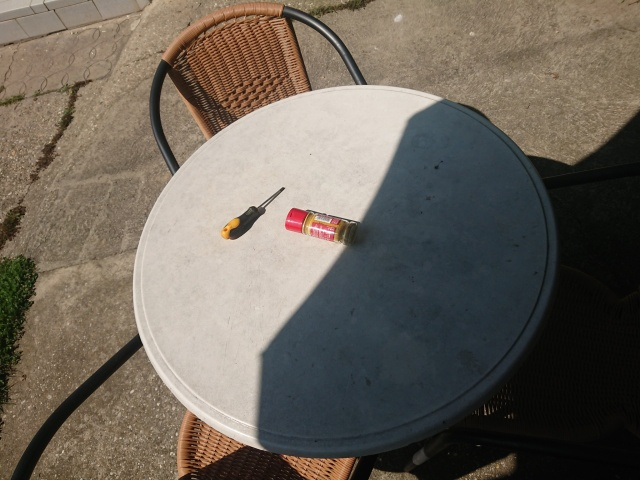Kotanyi Curry Spices Mix 70g: (283, 206, 365, 249)
